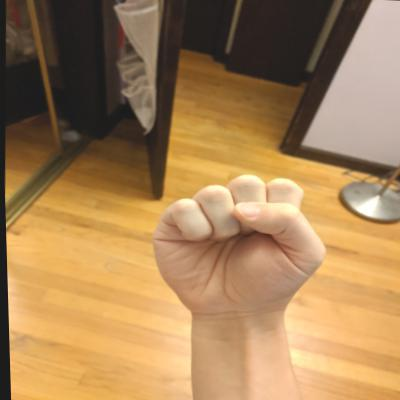hand: (140, 167, 334, 324)
